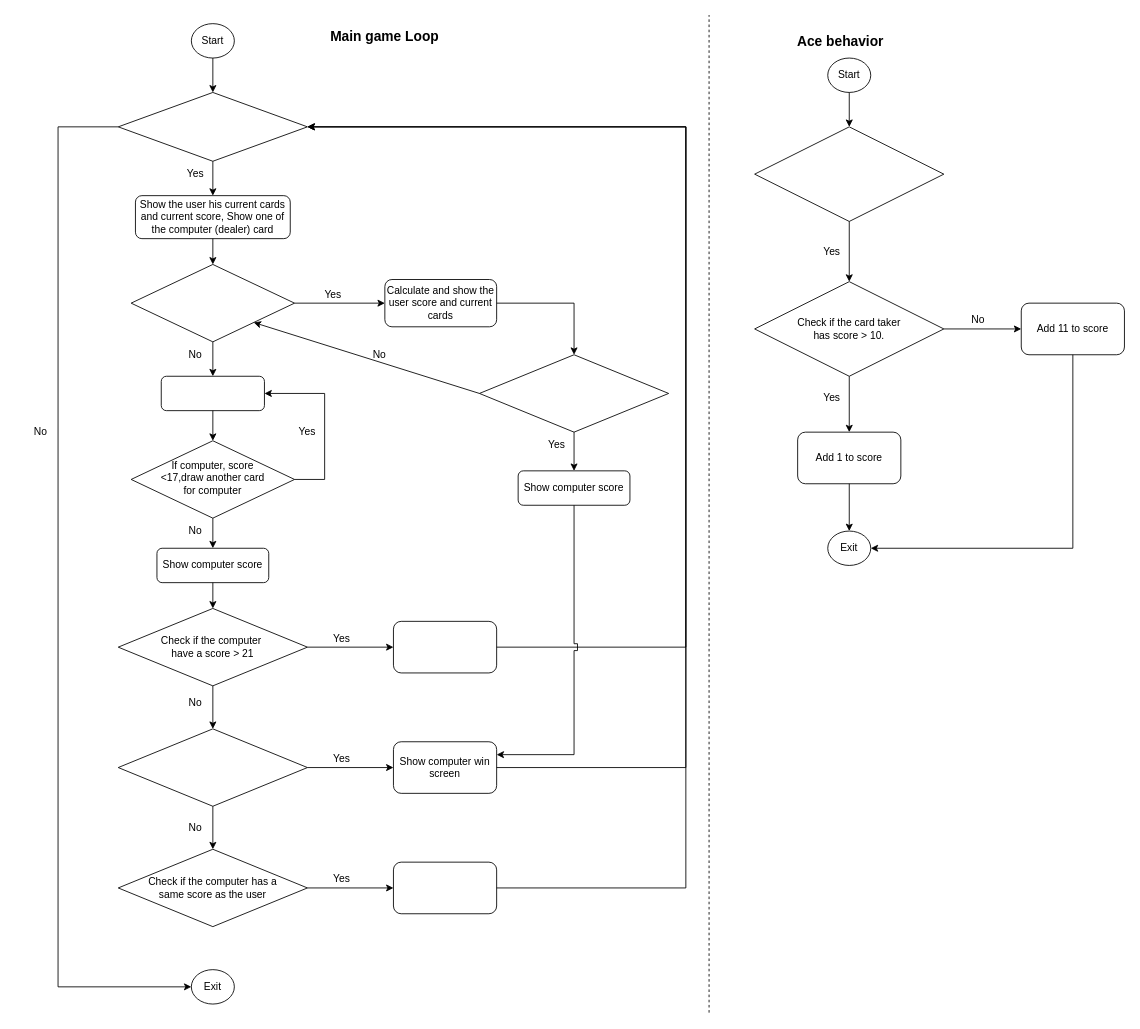
The diagram is 1140 pixels wide and 1029 high, and some of its shapes have lost their labels. Each missing label, with the centre of its shape:
"Ask user if he wants to get another card" belongs at pixel 212 303.
"Ask user if he wants to play a Blackjack game" belongs at pixel 212 126.
"Calculate the computer score" belongs at pixel 212 393.
"Check if the card taker has drawn an ace." belongs at pixel 849 173.
"Check if the computer has a greater score than the user" belongs at pixel 212 767.
"Check if the user have a score > 21" belongs at pixel 574 393.
"Show draw screen" belongs at pixel 445 887.
"Show player win screen" belongs at pixel 445 646.
